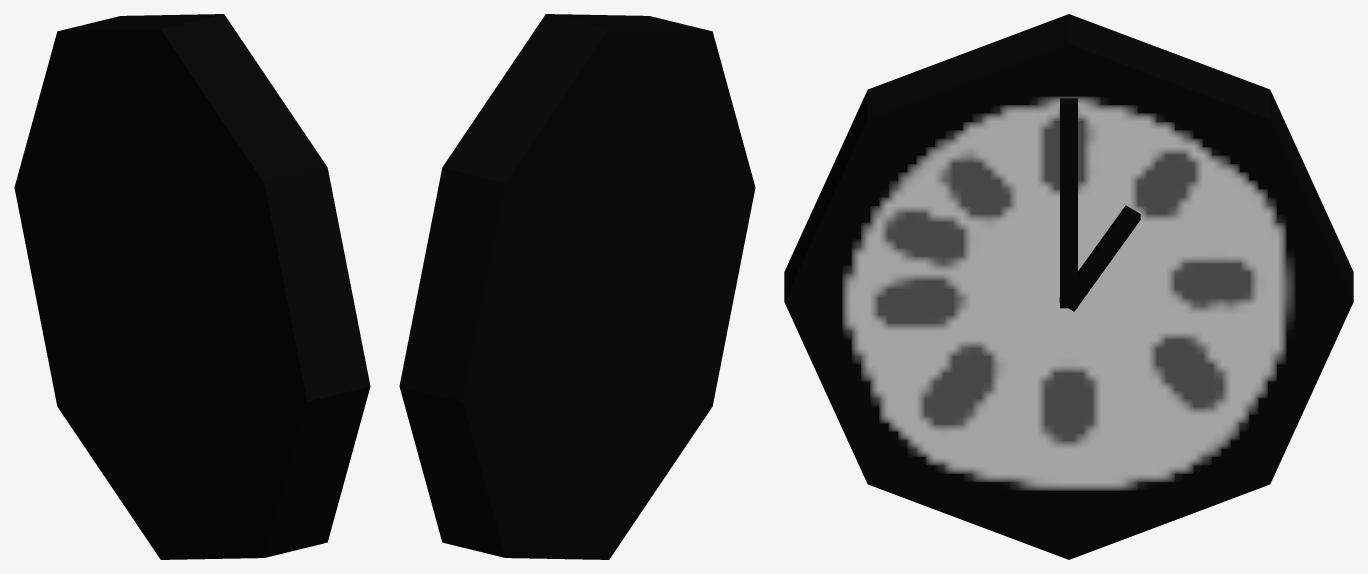
File: clock.glb
The picture shows the model from 3 angles, left to right: view 1: azimuth 30°, elevation 25°; view 2: azimuth 150°, elevation 25°; view 3: azimuth 270°, elevation 25°; orthographic projection. The views are drawn at different scales.
Parts seen in each view (by area): view 1: Cylinder; view 2: Cylinder; view 3: Cylinder, Cube, Cube.001.
Part boxes in pixels (x1,y1,x2,y2): Cylinder: [14, 14, 370, 559]; Cylinder: [399, 14, 755, 559]; Cylinder: [784, 14, 1353, 559]; Cube: [1060, 98, 1077, 308]; Cube.001: [1059, 205, 1140, 311].
Bounding box in the file's own units: 0.1201 × 0.8 × 0.8.
Materials: 2 (1 with a texture image).
